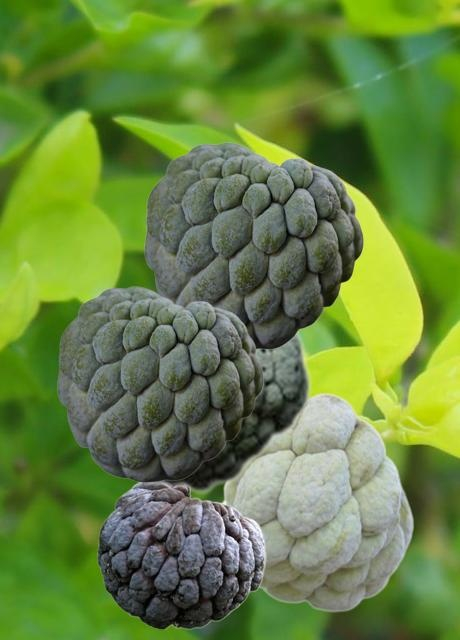atis: (144, 142, 362, 350), (221, 392, 413, 611), (57, 286, 262, 481), (123, 330, 311, 493), (97, 482, 265, 628)
